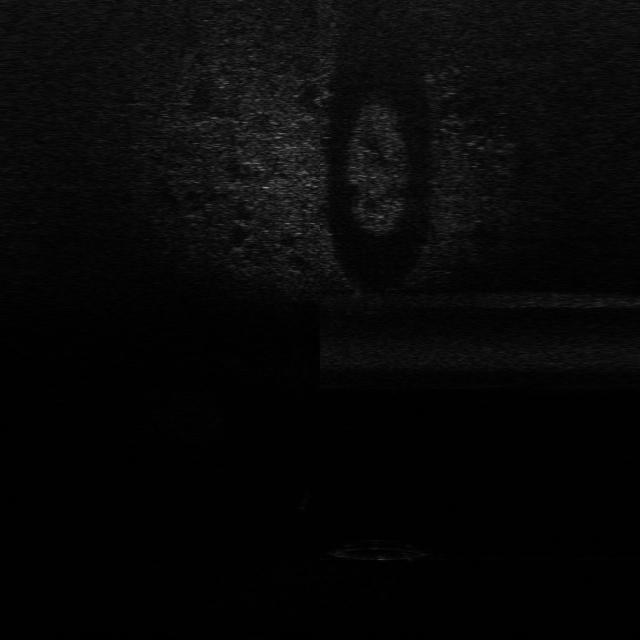tyre: (330, 534, 430, 564)
